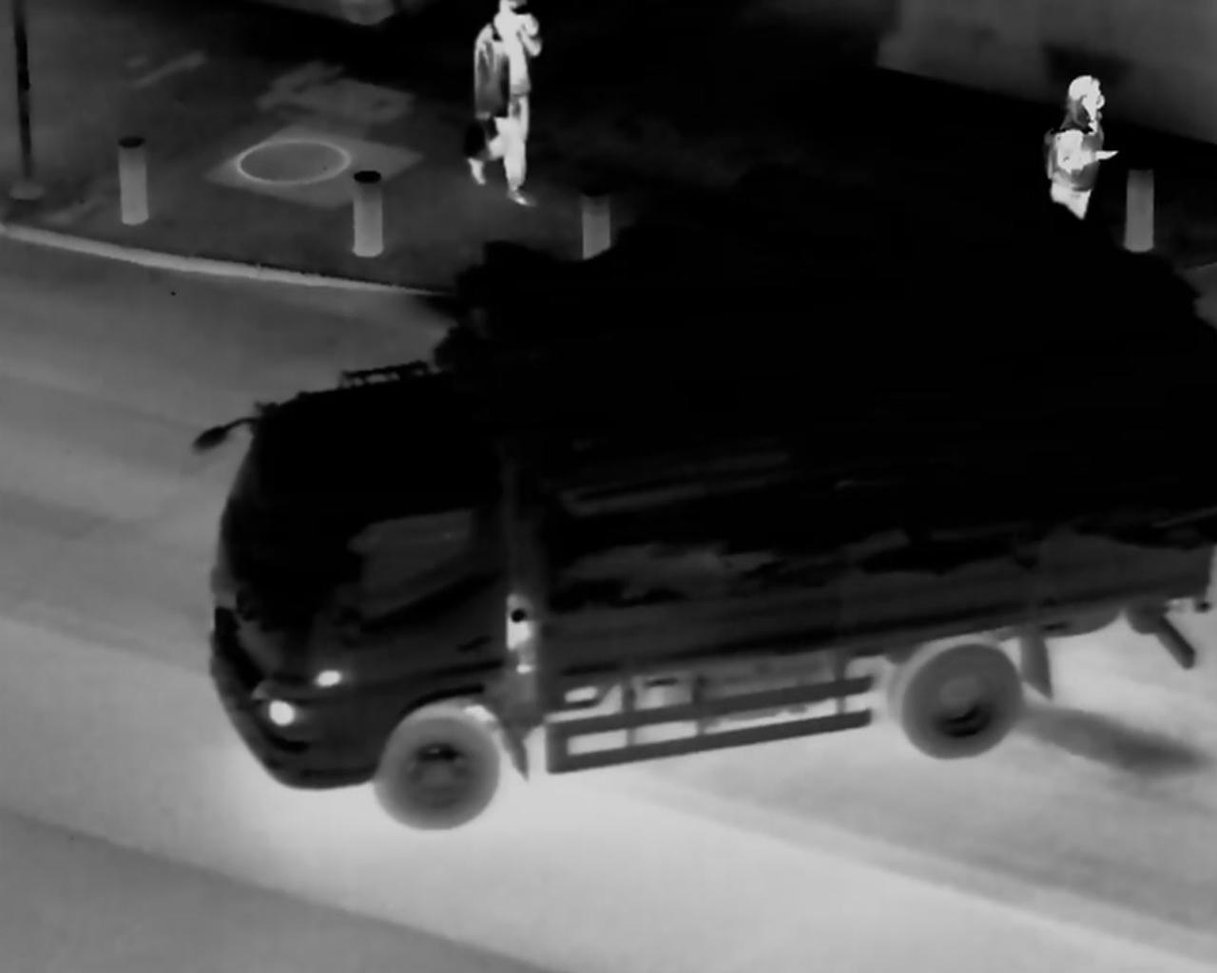person: (1033, 67, 1119, 225)
